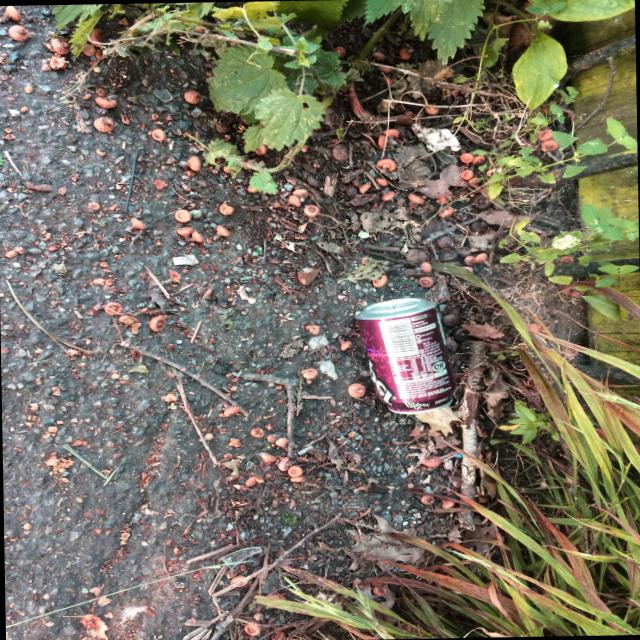less trash: (355, 297, 455, 414)
